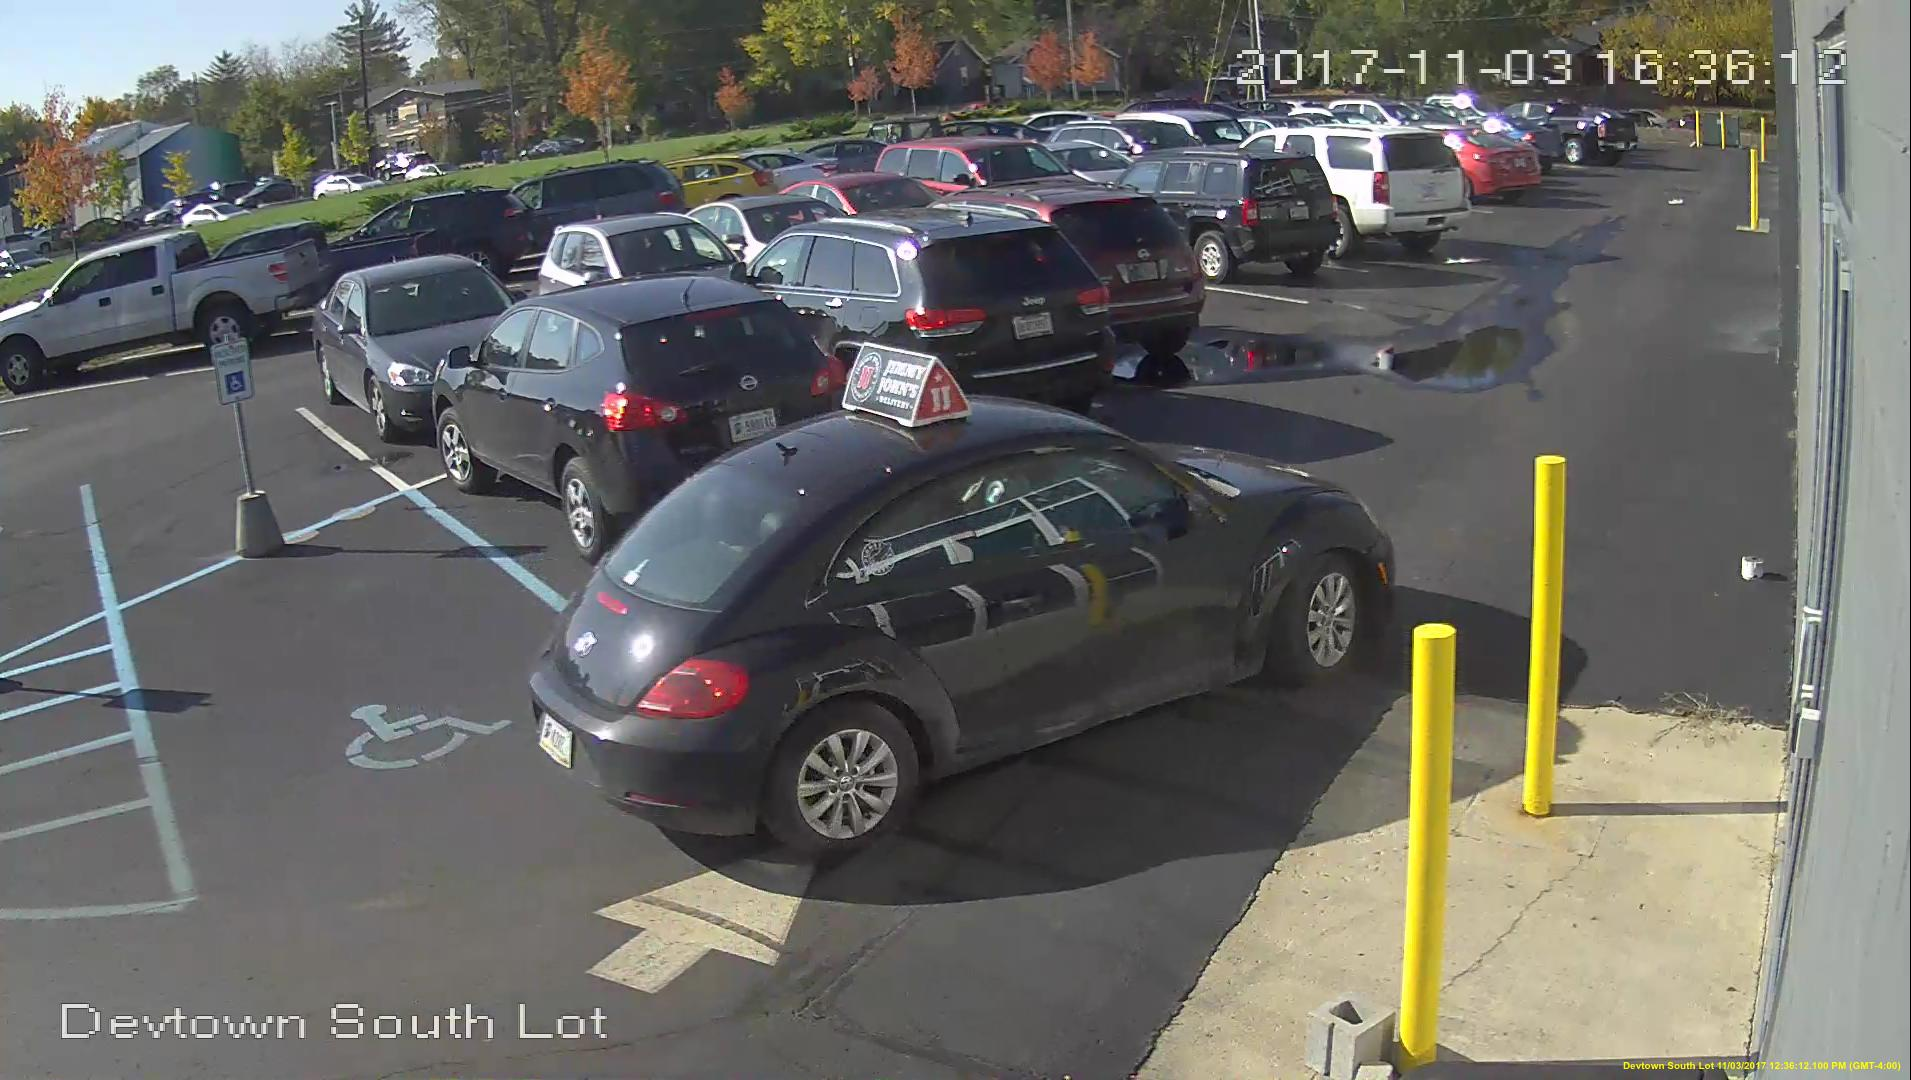jimmy_johns: (833, 336, 979, 438)
